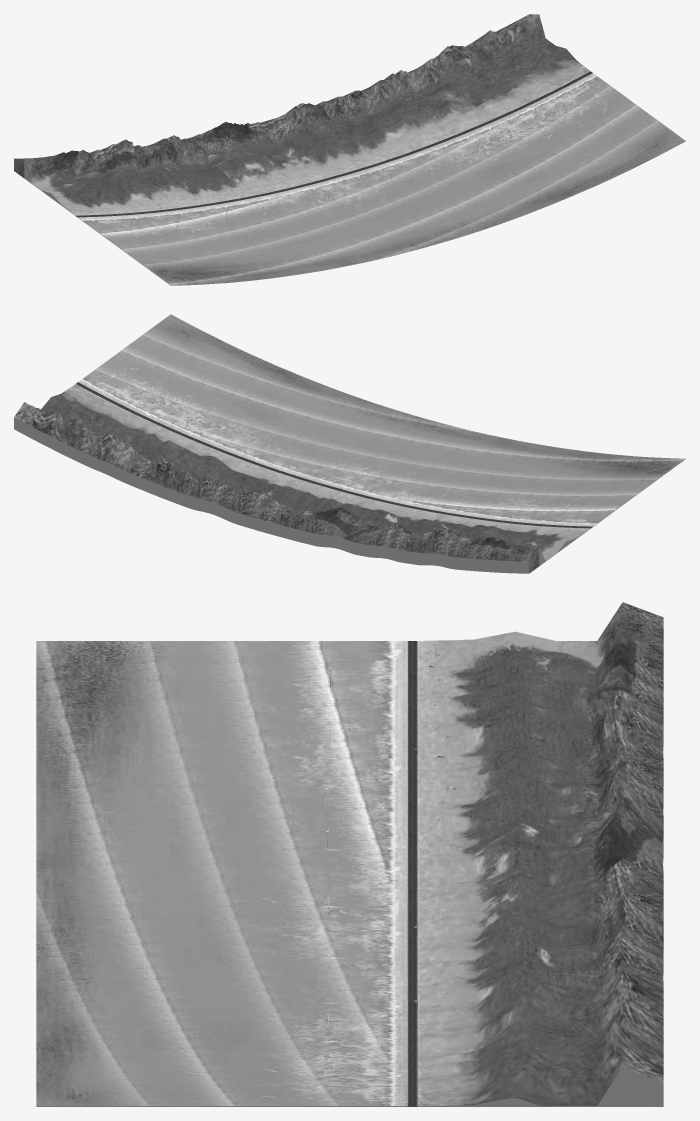
The model's file is colony_land_v8_line.glb.
3 renders of one model, top to bottom at view 1: azimuth 30°, elevation 25°; view 2: azimuth 150°, elevation 25°; view 3: azimuth 270°, elevation 25°, orthographic. The views are drawn at different scales.
Visible parts, largest first — view 1: sea, mountain, colony_road; view 2: sea, mountain, colony_road; view 3: sea, mountain, colony_road.
Boxes of the visible parts, x1,y1,x2,y2 form: sea: (24, 73, 685, 285); mountain: (14, 14, 590, 215); colony_road: (76, 71, 592, 217); sea: (14, 314, 685, 573); mountain: (14, 384, 590, 573); colony_road: (76, 382, 592, 528); sea: (36, 641, 663, 1106); mountain: (417, 602, 663, 1106); colony_road: (407, 641, 417, 1106).
Size of what is drawn, in the model's own units: 1451 by 173 by 765.
Materials: 11 (8 with a texture image).
